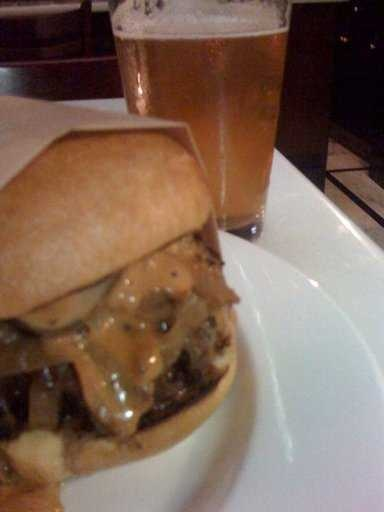hamburger: (1, 113, 231, 468)
